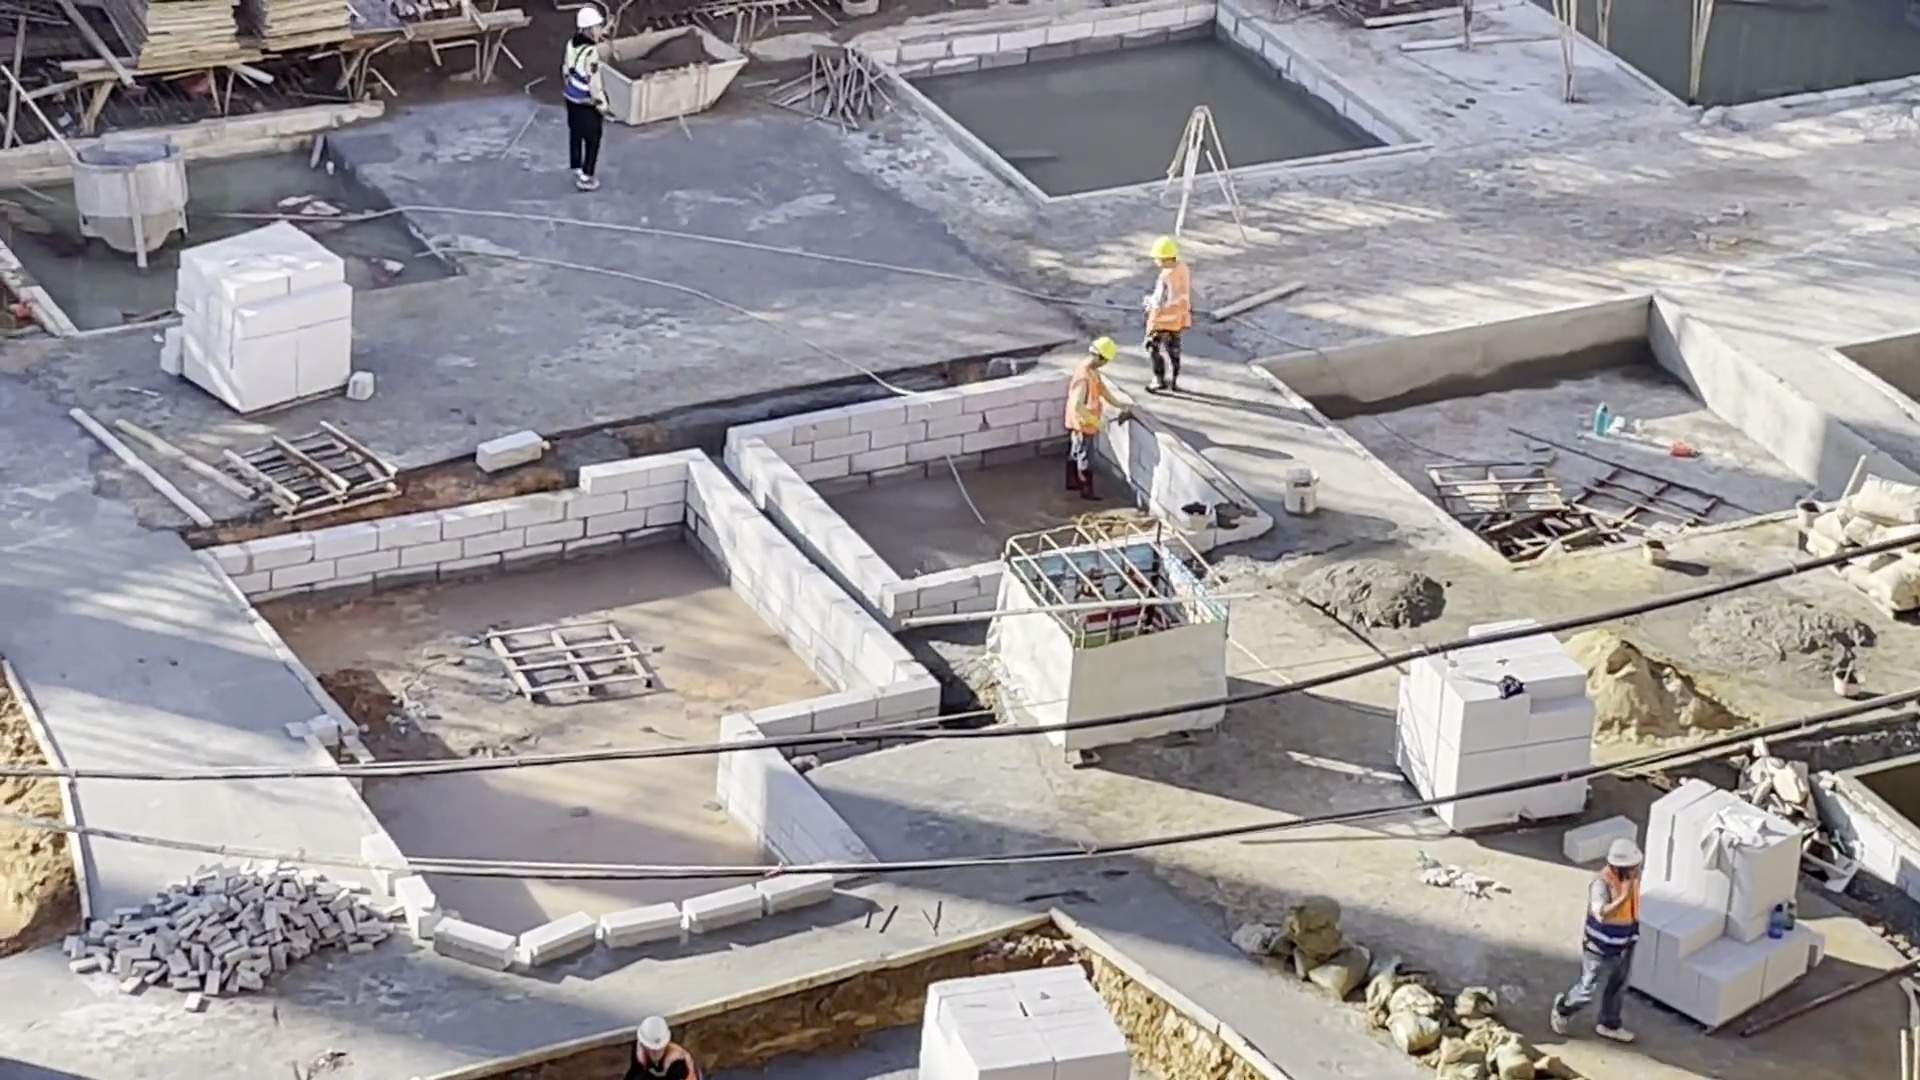board: (99, 2, 249, 74), (243, 2, 358, 64)
brick: (1639, 769, 1830, 1026), (173, 215, 358, 406), (919, 956, 1131, 1080), (1386, 669, 1605, 786)
helmet: (637, 1020, 674, 1053), (1605, 835, 1643, 867), (1150, 234, 1179, 259), (1087, 335, 1116, 360)
hopper: (67, 132, 187, 264), (611, 19, 752, 126)
person: (1554, 834, 1643, 1051), (1061, 331, 1132, 501), (565, 15, 616, 194), (1141, 236, 1198, 395), (618, 1014, 704, 1080)
vest: (1583, 866, 1641, 958), (562, 39, 613, 111), (1146, 262, 1194, 336), (1068, 360, 1106, 434)
